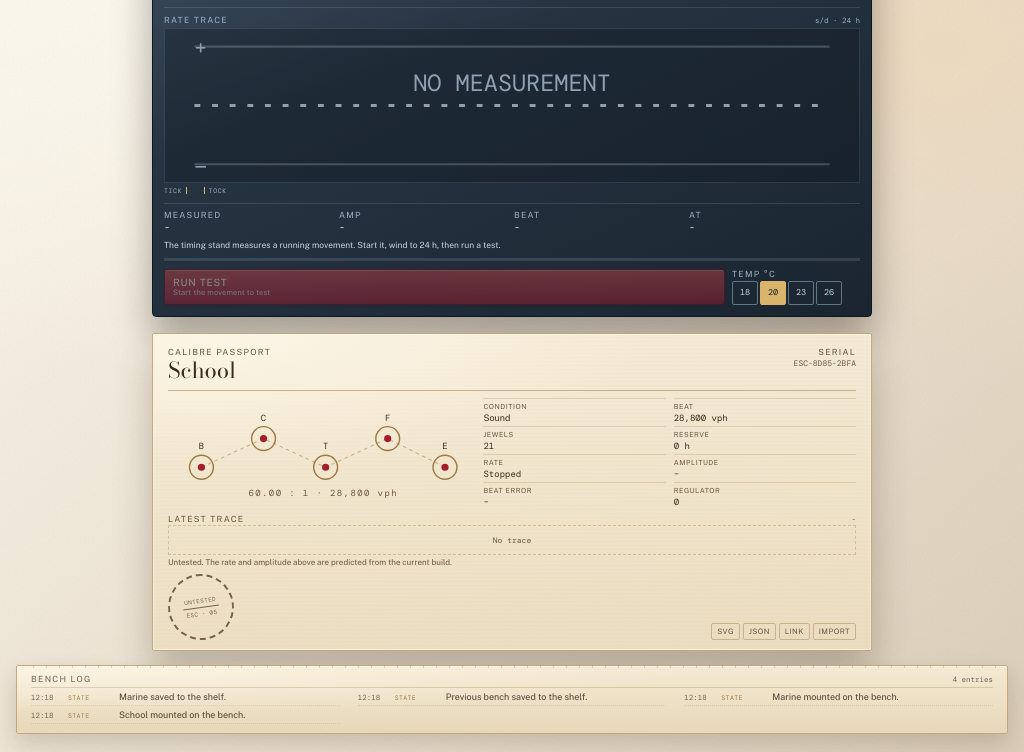
it: bench shell › copies a validated share link
(page scrolled)
Step 1. Click the button "Link" → (794, 631), box [779,623,810,640]
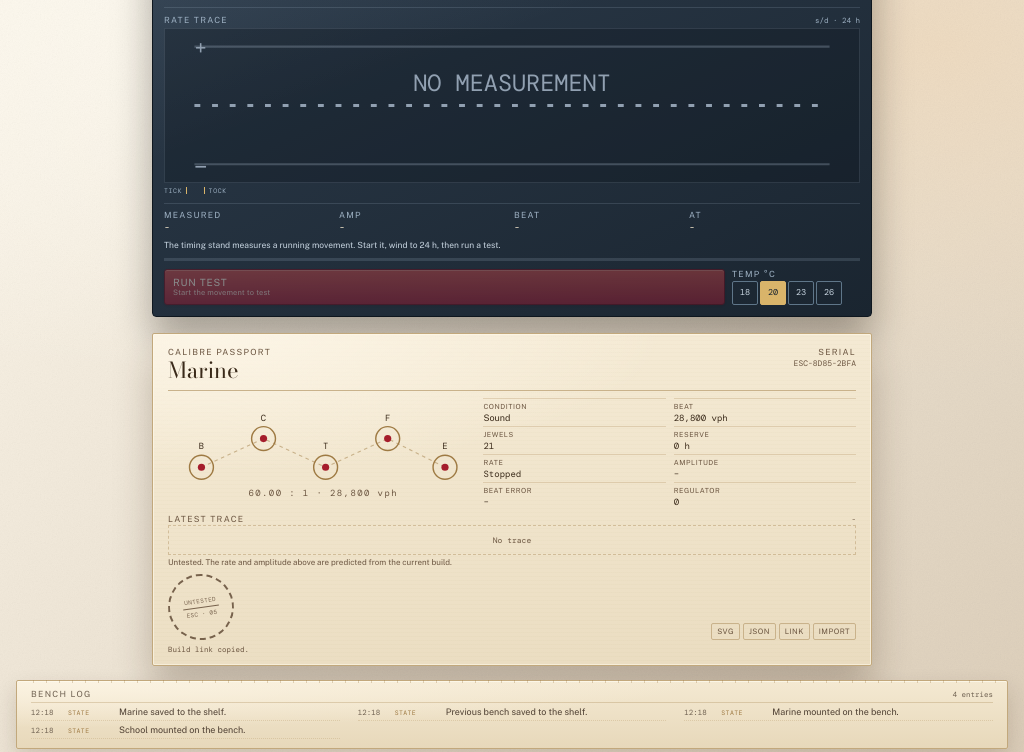
Check: the text "Build link copied." is shown, box [168,645,249,654]
